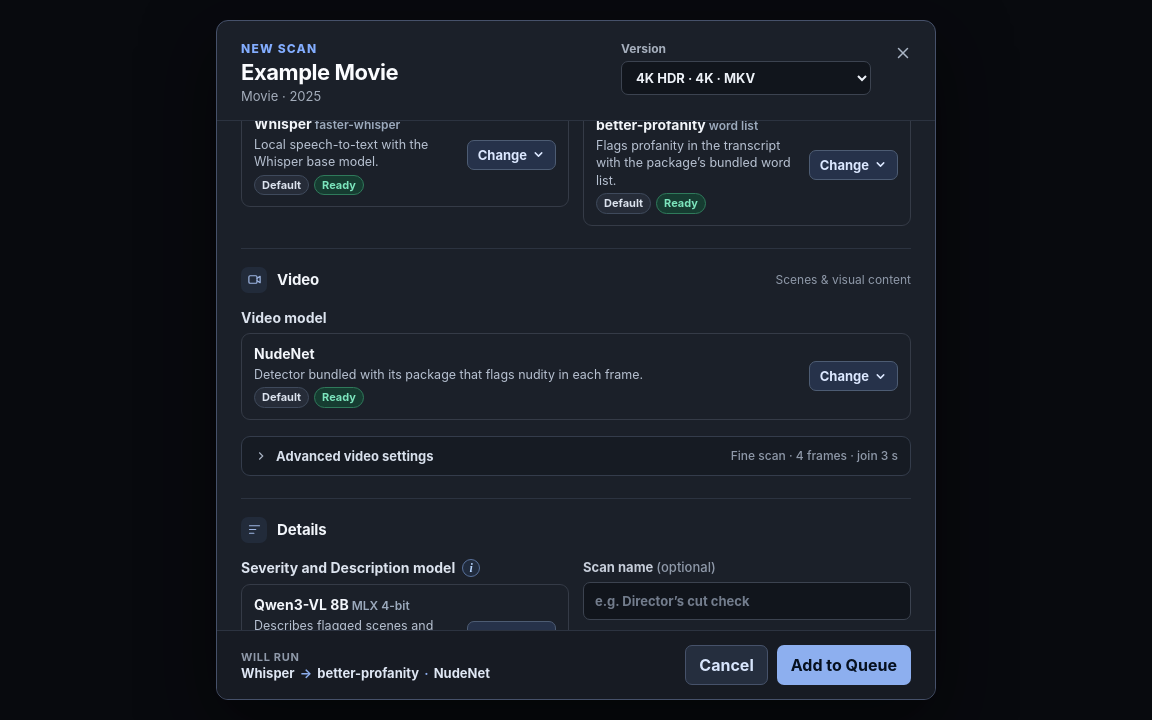
Test: NewScanDialog › leaves Escape to an open model list, then closes unless a scan is being added
Later steps or results of the test are not shown.
(page scrolled)
Click the button with aria-label "Change Video model: NudeNet". click: (853, 376)
box: [809, 361, 898, 391]
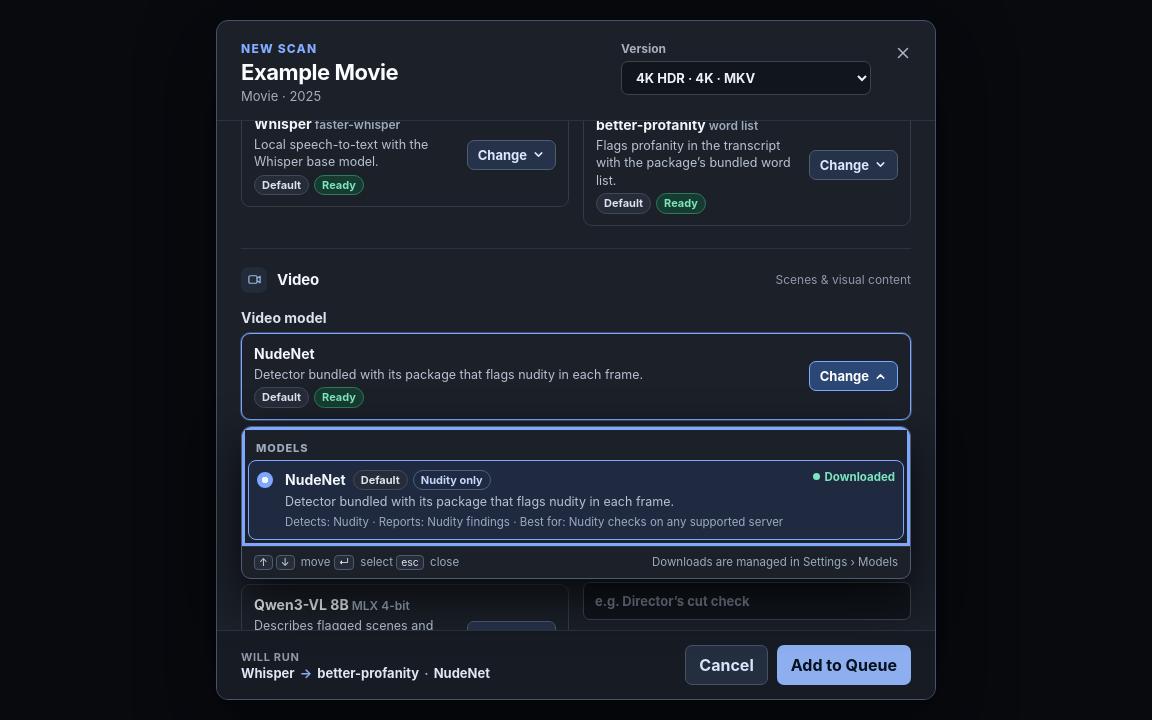
Press Escape in the list named "Video model", box [242, 427, 910, 546]
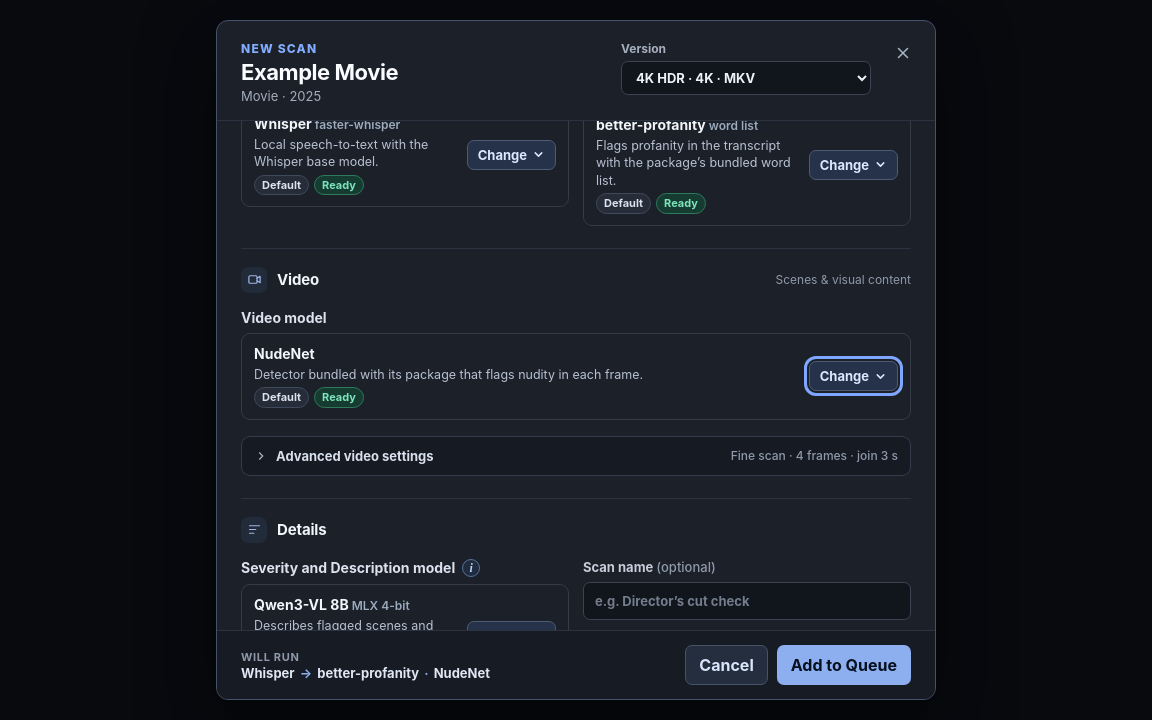
Check: the list is gone
